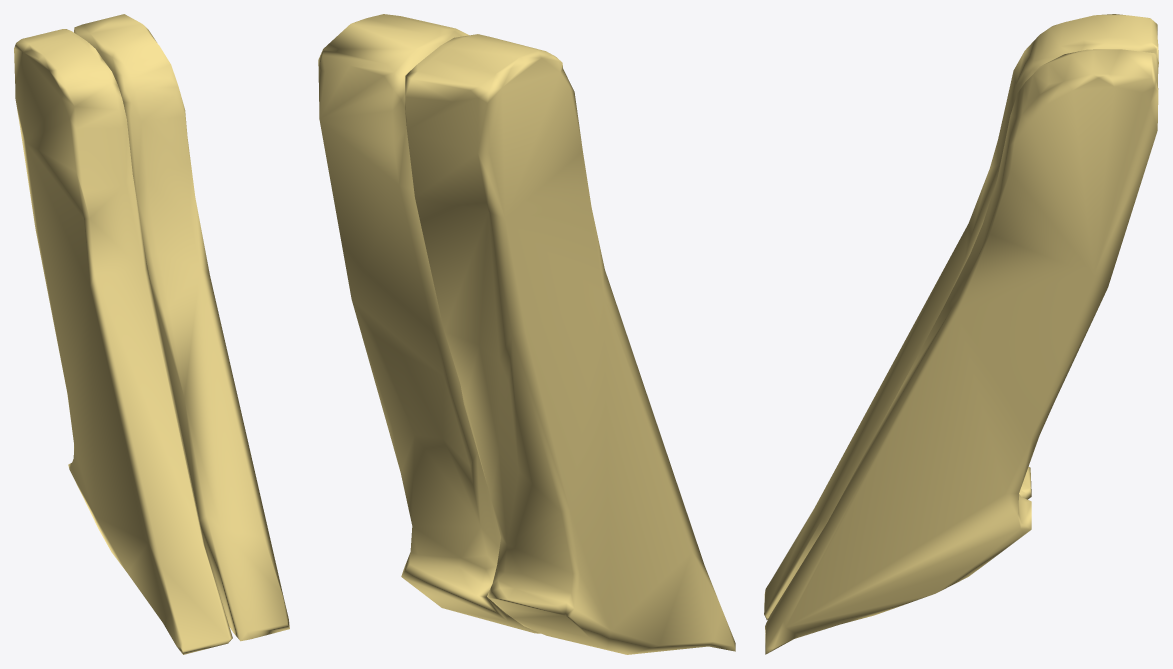
3 renders of one model, left to right at view 1: azimuth 30°, elevation 25°; view 2: azimuth 150°, elevation 25°; view 3: azimuth 270°, elevation 25°, orthographic. The views are drawn at different scales.
Parts seen in each view (by area): view 1: ZA_aa622be5b7dfde3e; view 2: ZA_aa622be5b7dfde3e; view 3: ZA_aa622be5b7dfde3e.
Boxes of the visible parts, x1=… form: ZA_aa622be5b7dfde3e: x1=14, y1=14, x2=289, y2=654; ZA_aa622be5b7dfde3e: x1=318, y1=14, x2=735, y2=654; ZA_aa622be5b7dfde3e: x1=764, y1=14, x2=1158, y2=654.
Bounding box in the file's own units: 0.00273 × 0.0115 × 0.0071.
